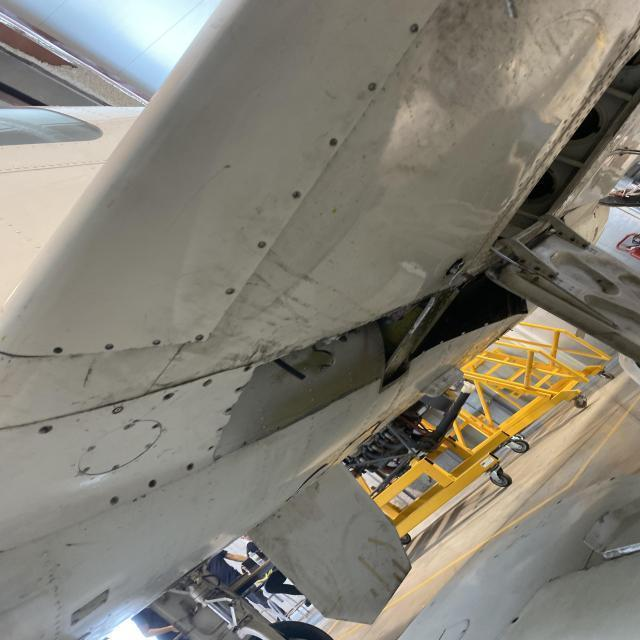Missing_Fastener: (407, 21, 421, 34), (51, 344, 66, 356), (149, 336, 163, 348), (100, 343, 118, 351), (327, 138, 341, 148), (254, 240, 268, 250), (366, 81, 378, 92), (223, 287, 236, 297), (146, 479, 160, 488), (291, 190, 303, 200), (186, 462, 197, 472), (193, 333, 206, 341), (39, 426, 52, 434), (111, 496, 120, 506), (163, 392, 174, 400), (242, 365, 252, 372), (234, 386, 241, 394)
